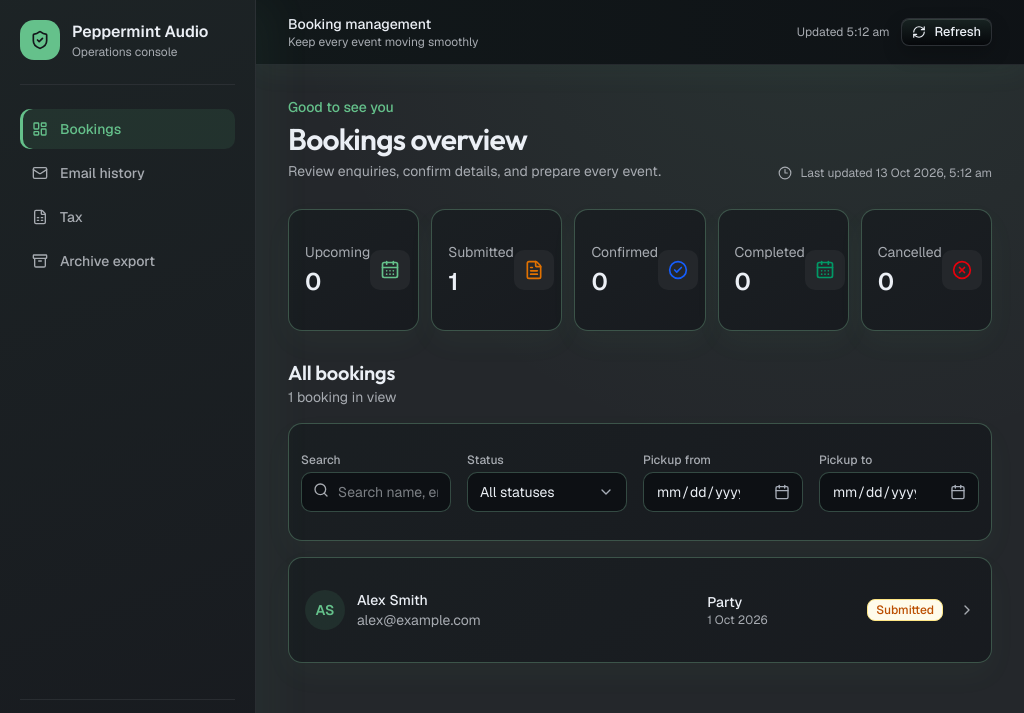
Test: AdminConsole › shows full multi-night catalogue totals in saved hire details
Click the text "Alex Smith" at coordinates (392, 600), box [357,591,428,609]
(page scrolled)
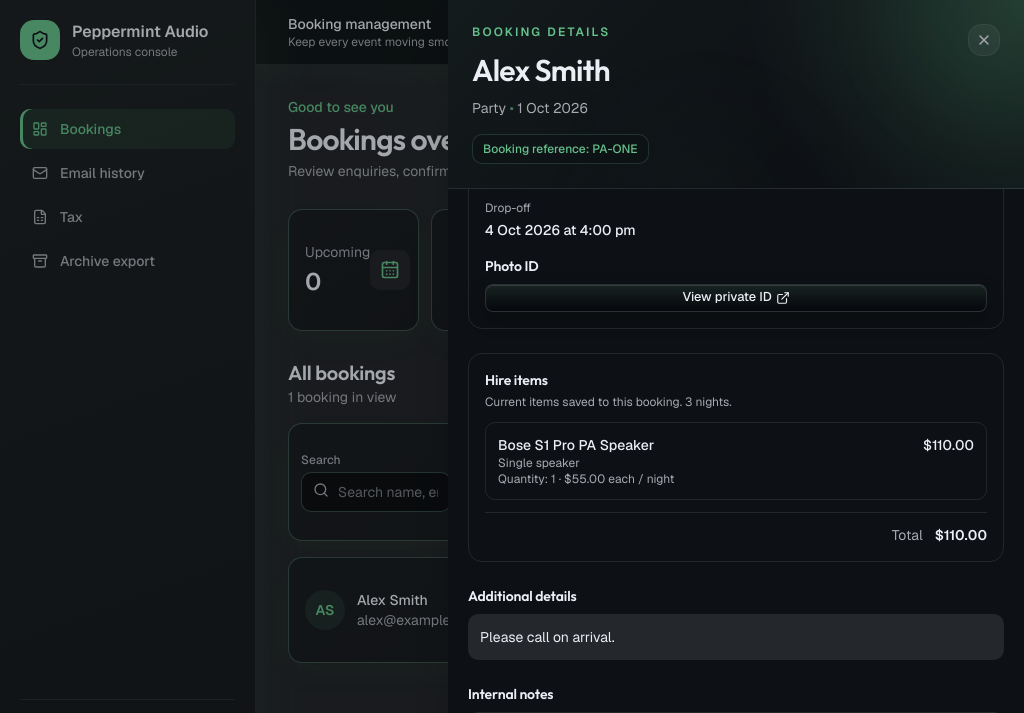
Result: the text named "Hire items total" reads "$110.00" at [935,526,987,544]
Result: the text "Current items saved to this booking. 3 nights." is shown at [485,394,732,410]
Result: the text "Quantity: 1 · $55.00 each / night" is shown at [498,470,674,486]
